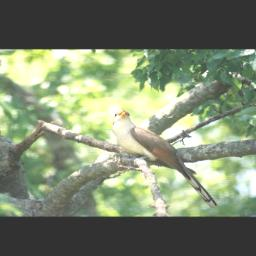Cuckoo: (110, 107, 221, 210)
